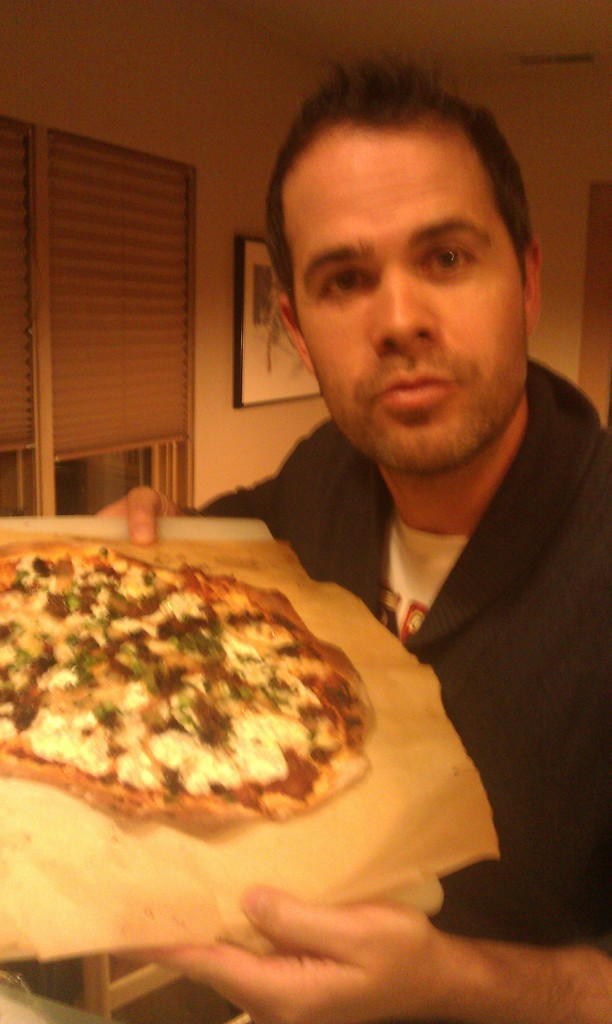pizza: (0, 537, 376, 816)
